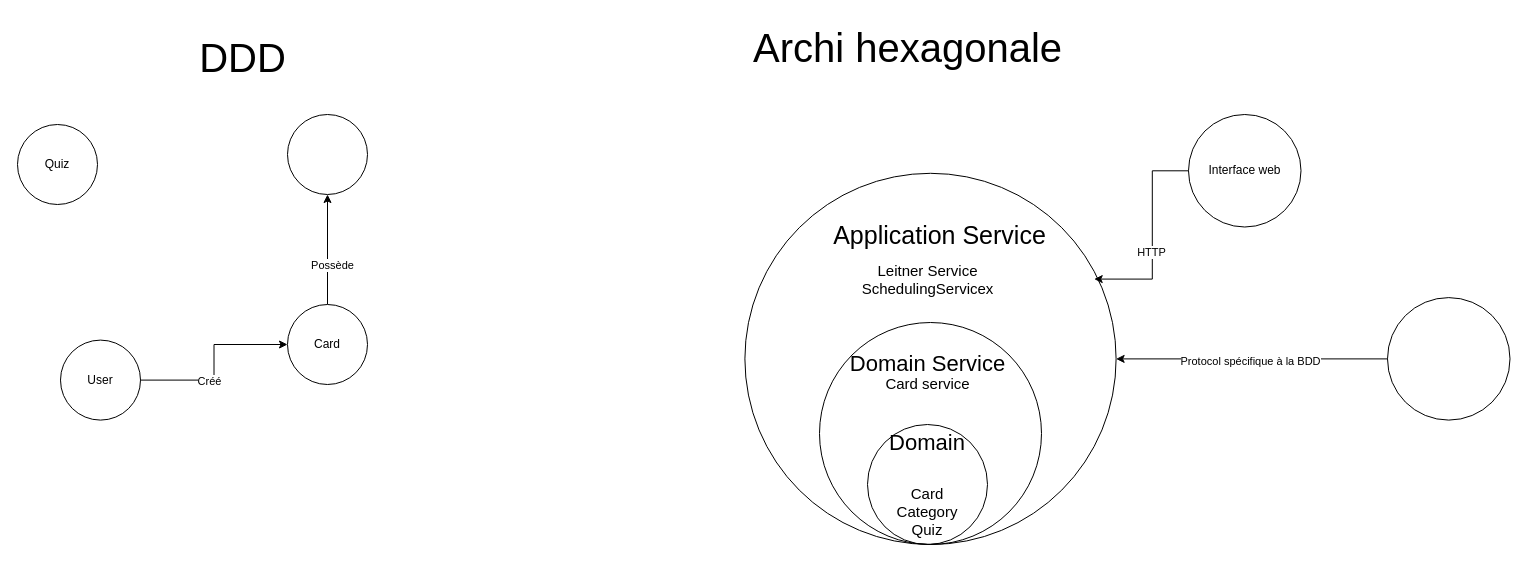
Some shapes in this 1528 by 562 pixel diagram are drawn without their labels. Each missing label, with the box of its shape:
Bdd: (1386, 297, 1510, 420)
Category: (286, 114, 368, 194)
